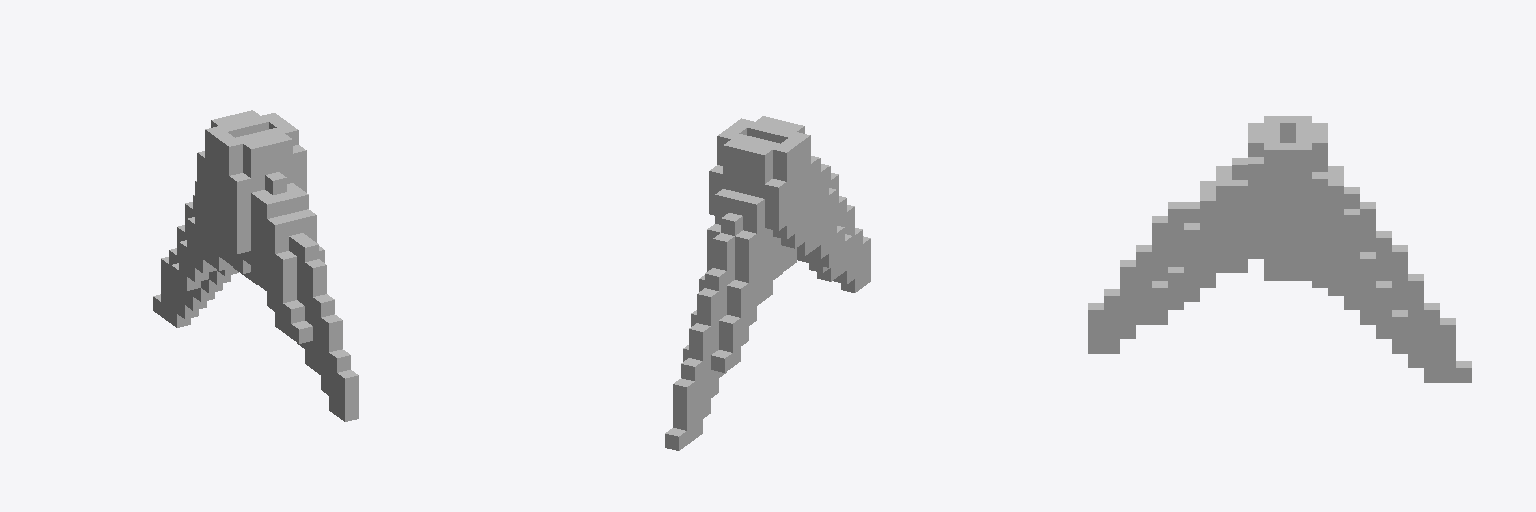
Rendered from kelpietail4.obj.
The picture shows the model from 3 angles: view 1: azimuth 30°, elevation 25°; view 2: azimuth 150°, elevation 25°; view 3: azimuth 270°, elevation 25°; orthographic projection.
Visible parts, largest first — view 1: kelpietail; view 2: kelpietail; view 3: kelpietail.
Boxes of the visible parts, <box> form: kelpietail: <box>153,110,358,421</box>; kelpietail: <box>665,116,870,450</box>; kelpietail: <box>1088,116,1471,382</box>.
Bounding box in the file's own units: 5 × 17 × 24.